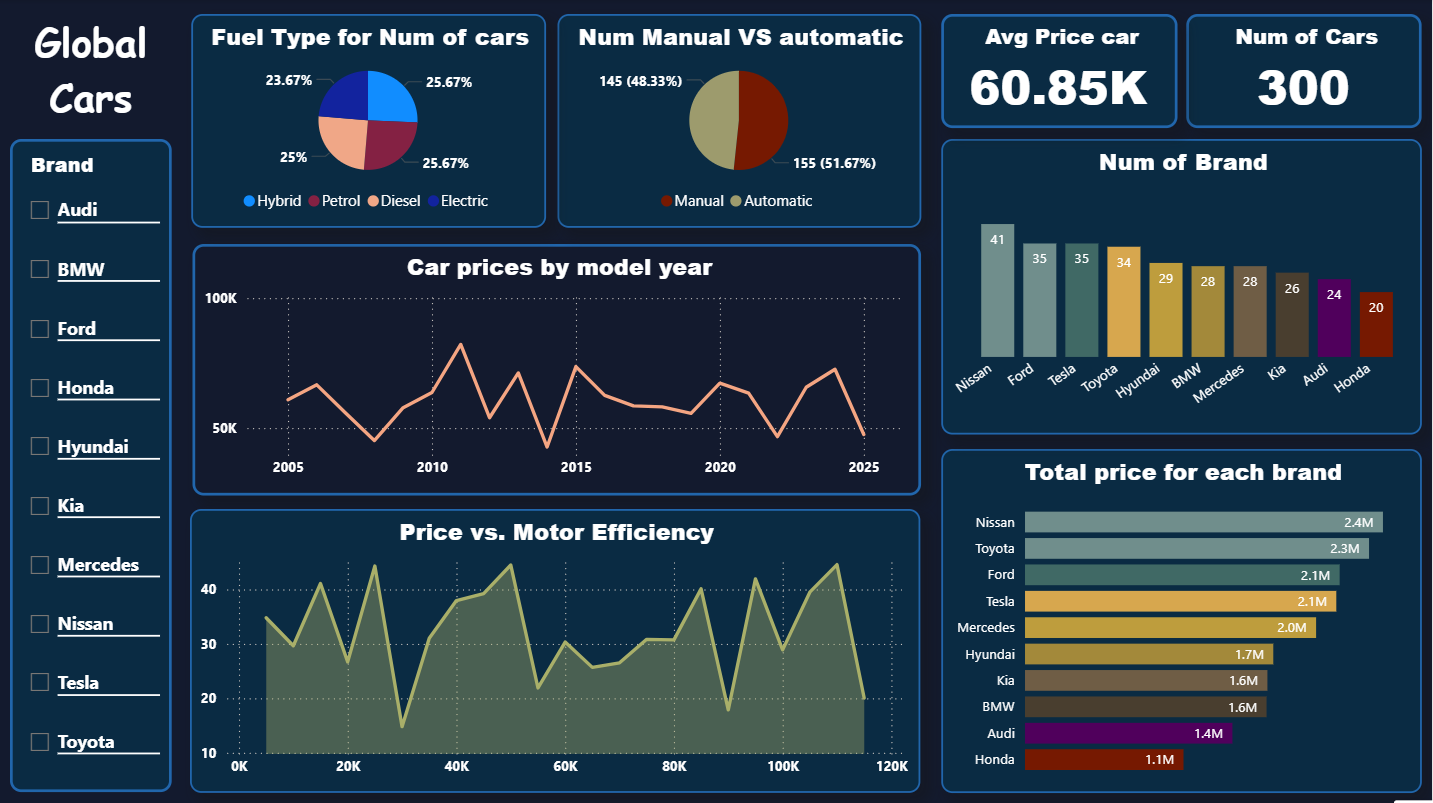

The page's visual inventory and layout, read from the dashboard file:
{"tool":"powerbi","page":{"name":"Global Cars Dashboard","canvas":[1280,720],"ordinal":1},"visuals":[{"type":"barChart","title":"Total price for each brand","fields":{"Category":["global_cars_dataset_synthetic.Brand"],"Y":["Sum(global_cars_dataset_synthetic.Price_USD)"]},"box":[842.5,400.7,428.1,306],"z":0},{"type":"card","title":"Num of Cars","fields":{"Values":["CountNonNull(global_cars_dataset_synthetic.Car_ID)"]},"box":[1060.7,13.7,209.9,101.5],"z":1000},{"type":"columnChart","title":"Num of Brand","fields":{"Y":["CountNonNull(global_cars_dataset_synthetic.Car_ID)"],"Category":["global_cars_dataset_synthetic.Brand"]},"box":[842.5,124.9,428.1,263.5],"z":2000},{"type":"lineChart","title":"Car prices by model year","fields":{"Category":["global_cars_dataset_synthetic.Manufacture_Year"],"Y":["Avg(global_cars_dataset_synthetic.Price_USD)"]},"box":[175.6,218.2,649.1,223.7],"z":3000},{"type":"pieChart","title":"Num Manual VS automatic","fields":{"Category":["global_cars_dataset_synthetic.Transmission"],"Y":["CountNonNull(global_cars_dataset_synthetic.Car_ID)"]},"box":[500.9,13.7,323.8,190.7],"z":4000},{"type":"areaChart","title":"Price vs. Motor Efficiency","fields":{"Category":["global_cars_dataset_synthetic.Price_USD (bins)"],"Y":["Sum(global_cars_dataset_synthetic.Mileage_km_per_l)"]},"box":[174,454,650,252.5],"z":5000},{"type":"card","title":"Avg Price car","fields":{"Values":["Avg(global_cars_dataset_synthetic.Price_USD)"]},"box":[842.5,13.7,210,101.5],"z":6000},{"type":"pieChart","title":"Fuel Type for Num of cars","fields":{"Category":["global_cars_dataset_synthetic.Fuel_Type"],"Y":["CountNonNull(global_cars_dataset_synthetic.Car_ID)"]},"box":[174.3,13.7,315.6,190.7],"z":7000},{"type":"slicer","fields":{"Values":["global_cars_dataset_synthetic.Brand"]},"box":[13.7,124.9,144.1,581.8],"z":8000},{"type":"textbox","title":"Global Cars","box":[13.7,13.7,144.1,96.1],"z":9000}]}

Visuals, with their boxes in screenshot pixels (x1, y1, x2, y2), scaled from the page's 1280x720 canvas onto the 1433x803 screenshot:
"Total price for each brand" barChart: [left=943, top=447, right=1422, bottom=788]
"Num of Cars" card: [left=1187, top=15, right=1422, bottom=128]
"Num of Brand" columnChart: [left=943, top=139, right=1422, bottom=433]
"Car prices by model year" lineChart: [left=197, top=243, right=923, bottom=493]
"Num Manual VS automatic" pieChart: [left=561, top=15, right=923, bottom=228]
"Price vs. Motor Efficiency" areaChart: [left=195, top=506, right=922, bottom=788]
"Avg Price car" card: [left=943, top=15, right=1178, bottom=128]
"Fuel Type for Num of cars" pieChart: [left=195, top=15, right=548, bottom=228]
slicer - global_cars_dataset_synthetic.Brand: [left=15, top=139, right=177, bottom=788]
"Global Cars" textbox: [left=15, top=15, right=177, bottom=122]
